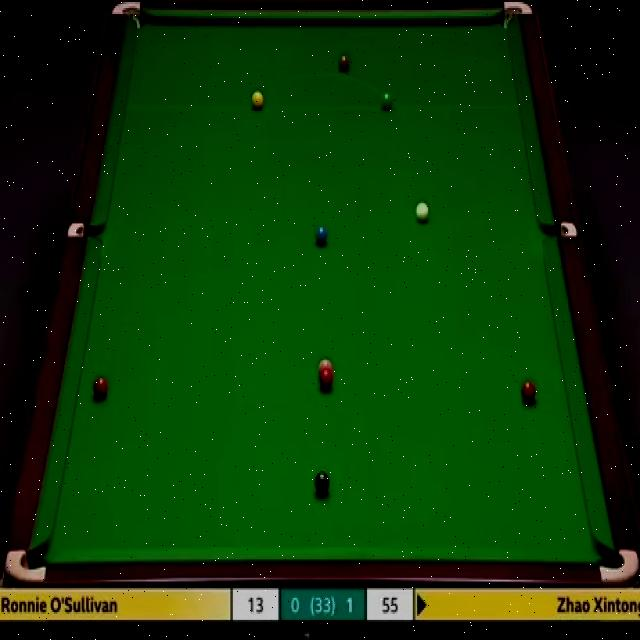black-ball: (313, 471, 332, 494)
blue-ball: (315, 226, 331, 247)
brown-ball: (338, 53, 349, 74)
green-ball: (379, 89, 393, 111)
pink-ball: (318, 358, 332, 372)
red-ball: (520, 380, 536, 403), (92, 376, 107, 399), (320, 369, 334, 390)
white-ball: (416, 200, 430, 224)
yellow-ball: (250, 90, 264, 110)
